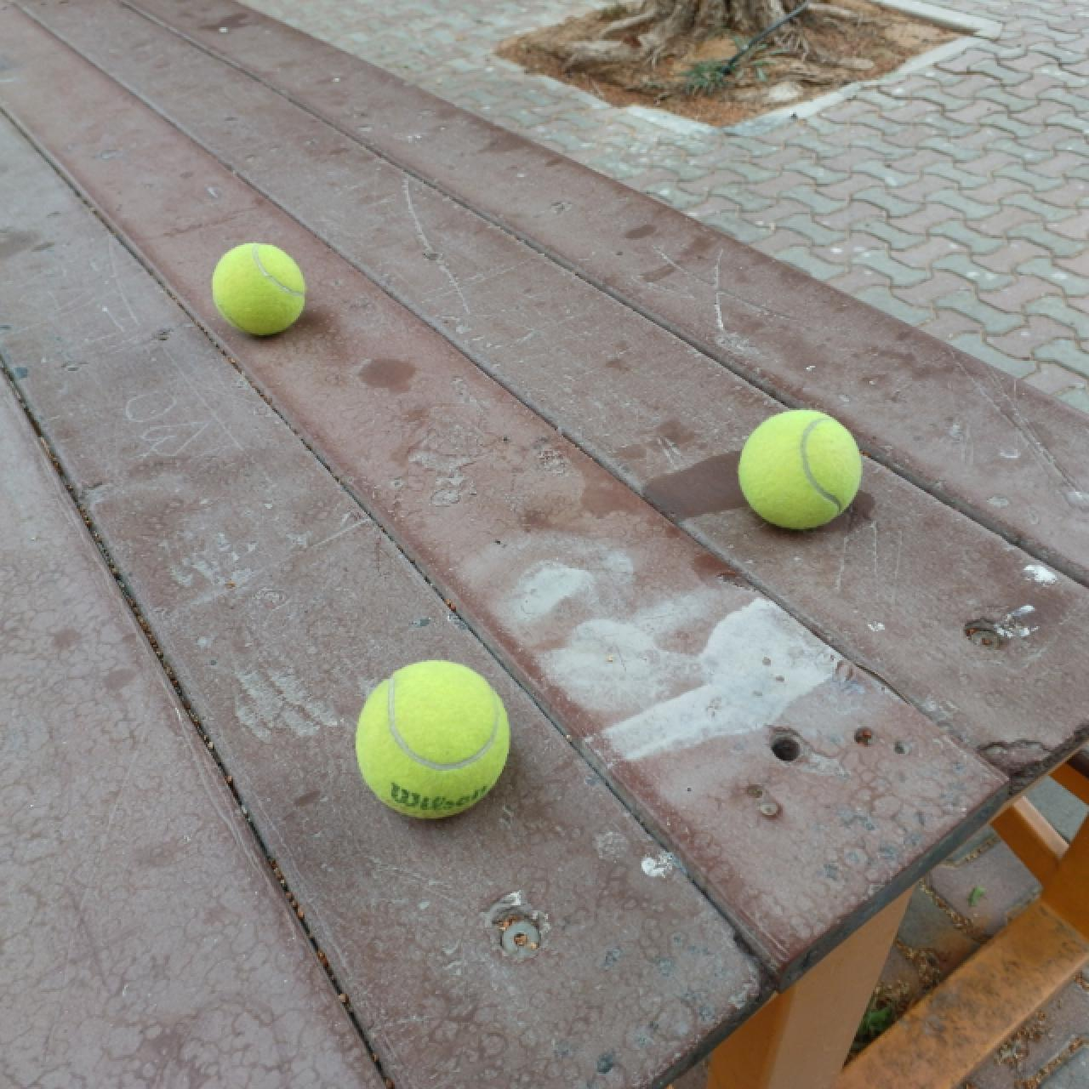tennis-ball: (352, 656, 515, 824), (737, 405, 864, 536), (206, 243, 314, 341)
